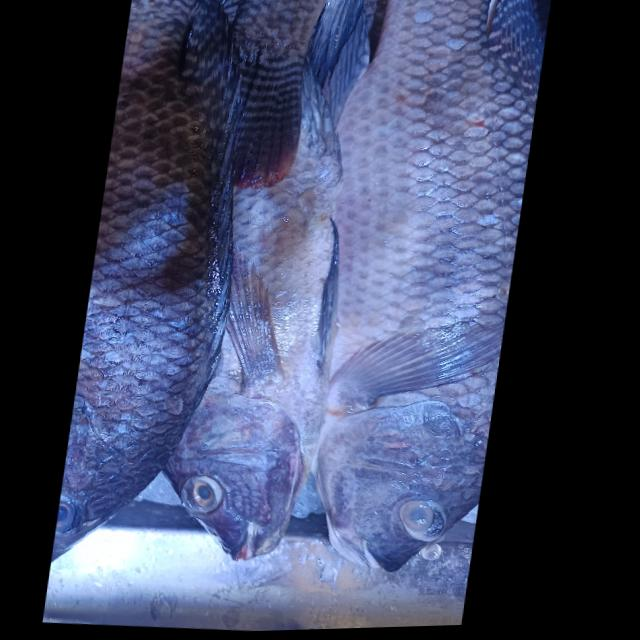Tilapia: (254, 0, 552, 584), (48, 0, 267, 575), (145, 41, 367, 569)
